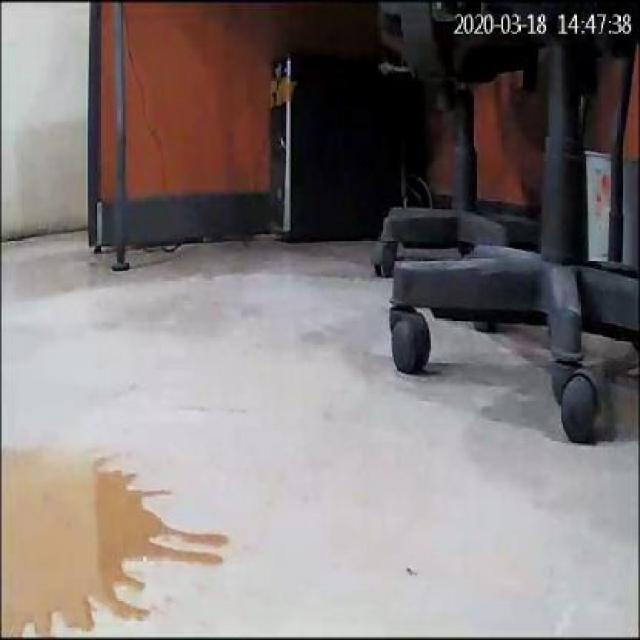spill: (5, 433, 230, 636)
